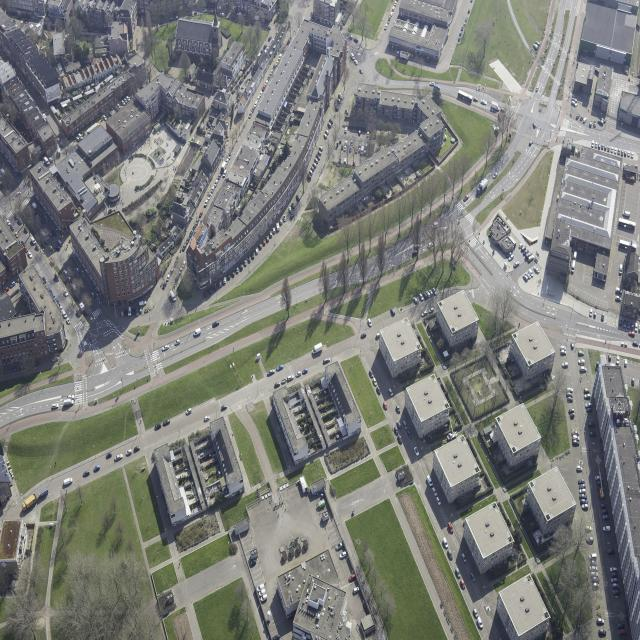large-vehicle: (21, 493, 38, 513), (475, 177, 489, 196), (86, 121, 101, 138), (619, 239, 637, 253), (618, 217, 636, 230), (457, 89, 473, 103), (396, 49, 410, 61), (219, 161, 228, 175), (491, 100, 501, 111), (447, 521, 454, 534), (431, 221, 439, 229), (375, 331, 382, 340), (571, 261, 576, 273), (433, 84, 441, 91), (622, 210, 630, 217), (533, 42, 539, 51), (573, 251, 577, 262), (535, 40, 541, 47)
small-vehicle: (311, 342, 323, 355), (426, 474, 434, 487), (63, 398, 74, 407), (169, 290, 177, 302), (477, 616, 484, 629), (256, 583, 265, 593), (63, 477, 73, 486), (335, 541, 344, 551), (455, 566, 461, 580), (442, 537, 449, 549), (114, 453, 123, 462), (43, 156, 51, 166), (260, 593, 268, 603), (618, 629, 628, 637), (138, 299, 147, 307), (193, 328, 201, 337), (258, 588, 266, 597), (447, 549, 453, 561), (527, 254, 535, 263), (473, 608, 479, 619), (432, 486, 438, 497), (397, 434, 403, 445), (414, 446, 420, 457), (470, 572, 476, 583), (460, 579, 466, 590), (162, 344, 170, 352), (154, 422, 162, 430), (212, 320, 220, 328), (267, 368, 275, 376), (276, 364, 284, 372), (339, 551, 347, 559), (348, 574, 356, 582), (352, 586, 360, 594), (83, 469, 91, 477), (75, 309, 82, 318), (61, 310, 68, 319), (30, 236, 37, 245), (418, 293, 425, 302), (525, 271, 532, 280), (525, 251, 532, 260), (588, 553, 597, 560), (388, 387, 394, 397), (393, 426, 399, 436), (406, 429, 412, 439), (402, 420, 408, 430), (372, 377, 378, 387), (528, 268, 534, 278), (461, 553, 467, 563), (367, 318, 373, 328), (66, 275, 73, 283), (31, 202, 38, 210), (93, 465, 101, 472), (163, 418, 170, 426), (249, 559, 256, 567), (287, 374, 294, 382), (323, 357, 331, 364), (513, 260, 520, 268), (533, 266, 540, 274), (505, 251, 512, 259), (597, 118, 604, 126), (590, 571, 598, 578), (54, 273, 60, 282), (169, 267, 175, 276), (174, 274, 180, 283), (222, 169, 228, 178), (185, 236, 191, 245), (422, 291, 428, 300), (395, 405, 401, 414), (376, 386, 382, 395), (523, 273, 529, 282), (396, 420, 402, 429), (383, 401, 388, 411), (436, 496, 441, 506), (9, 281, 16, 288), (360, 332, 367, 339), (134, 445, 141, 452), (221, 404, 228, 411), (185, 408, 192, 415), (295, 371, 302, 378), (274, 381, 281, 388), (427, 242, 434, 249), (480, 98, 487, 105), (412, 249, 419, 256), (421, 310, 428, 317), (571, 100, 578, 107), (628, 330, 635, 337), (66, 394, 74, 400), (63, 289, 69, 297), (71, 283, 77, 291), (55, 299, 61, 307), (9, 224, 15, 232), (27, 251, 33, 259), (57, 239, 63, 247), (34, 243, 40, 251), (257, 52, 263, 60), (207, 193, 213, 201), (227, 152, 233, 160), (188, 230, 194, 238), (289, 212, 295, 220), (463, 194, 469, 202), (521, 245, 527, 253), (523, 248, 529, 256), (508, 254, 514, 262), (572, 435, 580, 441), (600, 116, 606, 124), (579, 366, 587, 372), (580, 499, 588, 505), (592, 577, 600, 583), (590, 566, 598, 572), (613, 590, 621, 596), (607, 549, 615, 555), (162, 281, 167, 290), (195, 217, 200, 226), (344, 44, 349, 53), (390, 307, 395, 316), (360, 146, 365, 155), (432, 287, 437, 296), (182, 243, 187, 252), (127, 306, 131, 317), (619, 264, 623, 275), (52, 403, 59, 409), (4, 287, 10, 294), (51, 293, 57, 300), (30, 220, 36, 227), (17, 218, 23, 225), (23, 246, 29, 253), (20, 240, 26, 247), (52, 356, 59, 362), (77, 133, 83, 140), (106, 452, 112, 459), (126, 449, 132, 456), (253, 15, 260, 21), (204, 415, 210, 422), (210, 186, 216, 193), (302, 368, 308, 375), (338, 93, 344, 100), (337, 30, 344, 36), (315, 153, 321, 160), (518, 242, 524, 249), (576, 465, 583, 471), (566, 387, 573, 393), (616, 287, 622, 294), (599, 630, 606, 636), (597, 618, 604, 624), (579, 488, 586, 494), (588, 422, 595, 428), (584, 393, 591, 399), (586, 537, 593, 543), (578, 479, 585, 485), (579, 484, 586, 490), (612, 583, 619, 589), (611, 572, 618, 578), (610, 567, 617, 573), (603, 526, 610, 532), (66, 317, 71, 325), (42, 276, 47, 284), (59, 305, 64, 313), (135, 306, 139, 316), (178, 267, 183, 275), (166, 274, 171, 282), (173, 259, 178, 267), (248, 111, 253, 119), (253, 100, 258, 108), (258, 90, 263, 98), (204, 289, 209, 297), (204, 199, 209, 207), (214, 179, 219, 187), (225, 158, 230, 166), (350, 52, 355, 60), (307, 173, 312, 181), (413, 296, 418, 304), (426, 290, 431, 298), (429, 289, 434, 297), (369, 370, 374, 378), (616, 355, 620, 365), (595, 476, 603, 481), (572, 440, 580, 445), (48, 157, 54, 163), (55, 245, 61, 251), (43, 239, 49, 245), (125, 96, 131, 102), (41, 231, 47, 237), (353, 37, 359, 43), (353, 59, 359, 65), (182, 260, 186, 269), (571, 97, 577, 103), (562, 362, 568, 368), (634, 323, 638, 332), (633, 341, 639, 347), (568, 408, 574, 414), (603, 515, 609, 521), (602, 509, 608, 515), (63, 269, 68, 276), (33, 362, 40, 367), (6, 219, 11, 226), (14, 231, 19, 238), (24, 227, 29, 234), (38, 211, 43, 218), (14, 213, 19, 220), (16, 190, 21, 197), (25, 213, 30, 220), (59, 141, 64, 148), (102, 114, 107, 121), (114, 105, 119, 112), (175, 339, 180, 346), (239, 78, 244, 85), (269, 69, 274, 76), (206, 121, 211, 128), (278, 53, 283, 60), (198, 211, 203, 218), (190, 137, 195, 144), (192, 224, 197, 231), (310, 165, 315, 172), (314, 157, 319, 164), (90, 291, 95, 298), (493, 172, 498, 179), (479, 179, 484, 186), (560, 350, 567, 355), (572, 431, 579, 436), (578, 359, 585, 364), (580, 494, 587, 499), (589, 432, 596, 437), (585, 403, 592, 408), (585, 526, 592, 531), (529, 139, 534, 146), (617, 624, 624, 629), (611, 578, 618, 583), (209, 286, 213, 294), (276, 223, 280, 231), (601, 313, 605, 321), (624, 359, 628, 367), (623, 320, 627, 328), (589, 309, 593, 317), (75, 267, 80, 273), (11, 368, 17, 373), (18, 366, 24, 371), (40, 218, 45, 224), (49, 245, 54, 251), (51, 230, 56, 236), (116, 103, 121, 109), (56, 137, 61, 143), (75, 136, 80, 142), (108, 111, 113, 117), (121, 100, 126, 106), (123, 98, 128, 104), (237, 11, 243, 16), (48, 232, 53, 238), (243, 19, 249, 24), (213, 10, 219, 15), (246, 68, 251, 74), (243, 73, 248, 79), (235, 83, 240, 89), (231, 89, 236, 95), (264, 80, 269, 86), (217, 174, 222, 180), (359, 68, 364, 74), (323, 133, 328, 139), (327, 122, 332, 128), (329, 119, 334, 125), (312, 162, 317, 168), (429, 81, 435, 86), (414, 244, 420, 249), (501, 107, 506, 113), (473, 97, 479, 102), (429, 307, 434, 313), (560, 346, 566, 351), (578, 351, 584, 356), (567, 392, 573, 397), (567, 397, 573, 402), (615, 296, 621, 301), (593, 582, 599, 587), (586, 408, 592, 413), (582, 504, 588, 509), (597, 481, 603, 486), (584, 388, 590, 393), (591, 561, 597, 566), (601, 504, 607, 509), (49, 288, 53, 295), (269, 231, 273, 238), (251, 106, 255, 113), (223, 277, 227, 284), (267, 74, 271, 81), (214, 283, 218, 290), (296, 194, 300, 201), (343, 145, 347, 152), (384, 23, 388, 30), (366, 131, 370, 138), (273, 64, 277, 71), (535, 86, 539, 93), (576, 113, 580, 120), (593, 311, 597, 318), (583, 117, 587, 124), (589, 120, 593, 127), (617, 148, 621, 155), (597, 143, 601, 150), (36, 106, 41, 111), (33, 210, 38, 215), (174, 16, 179, 21), (188, 12, 193, 17), (220, 12, 225, 17), (211, 104, 216, 109), (266, 26, 271, 31), (408, 53, 413, 58), (569, 413, 574, 418), (58, 148, 61, 156), (105, 113, 109, 119), (139, 306, 142, 314), (268, 35, 272, 41), (256, 96, 260, 102), (250, 64, 254, 70), (262, 85, 266, 91), (240, 262, 243, 270), (251, 251, 254, 259), (253, 60, 257, 66), (287, 39, 291, 45), (196, 140, 200, 146), (275, 60, 279, 66), (325, 129, 329, 135), (337, 98, 341, 104), (344, 127, 348, 133), (319, 145, 323, 151), (318, 150, 322, 156), (338, 157, 342, 163), (291, 203, 295, 209), (279, 219, 283, 225), (343, 158, 347, 164), (363, 149, 367, 155), (392, 5, 396, 11), (390, 11, 394, 17), (426, 59, 432, 63), (459, 30, 463, 36), (580, 116, 584, 122), (632, 378, 635, 386), (627, 321, 630, 329), (631, 322, 634, 330), (219, 280, 222, 287), (232, 270, 235, 277), (236, 266, 239, 273), (244, 259, 247, 266), (255, 247, 258, 254), (259, 243, 262, 250), (121, 310, 124, 317), (353, 159, 356, 166), (349, 146, 352, 153), (355, 147, 358, 154), (593, 121, 596, 128), (608, 354, 611, 361), (619, 319, 622, 326), (621, 149, 624, 156), (614, 147, 617, 154), (611, 146, 614, 153), (591, 140, 594, 147), (595, 141, 598, 148), (601, 143, 604, 150), (2, 163, 6, 168), (136, 13, 141, 17), (169, 17, 173, 22), (173, 11, 177, 16), (242, 13, 247, 17), (217, 6, 222, 10), (231, 16, 236, 20), (203, 9, 208, 13), (209, 9, 214, 13), (212, 99, 217, 103), (212, 101, 216, 106), (263, 44, 267, 49), (349, 34, 353, 39), (335, 106, 339, 111), (309, 170, 313, 175), (344, 140, 348, 145), (415, 55, 420, 59), (30, 96, 34, 101), (34, 101, 37, 107), (124, 310, 127, 316), (132, 308, 135, 314), (266, 236, 269, 242), (248, 256, 251, 262), (263, 239, 266, 245), (358, 129, 361, 135), (273, 228, 276, 234), (289, 207, 292, 213), (283, 215, 286, 221), (339, 138, 342, 144), (341, 144, 344, 150), (394, 1, 397, 7), (350, 140, 353, 146), (463, 21, 466, 27), (458, 36, 461, 42), (533, 122, 536, 128), (365, 143, 368, 149), (627, 151, 630, 157), (571, 343, 574, 349), (604, 145, 607, 151), (607, 146, 610, 152), (631, 152, 634, 158), (237, 17, 241, 21), (250, 21, 254, 25), (233, 10, 236, 15), (209, 5, 214, 8), (261, 49, 264, 54), (309, 64, 312, 69), (359, 143, 362, 148), (388, 16, 391, 21), (386, 20, 389, 25), (468, 9, 471, 14), (465, 17, 468, 22), (461, 26, 464, 31), (624, 151, 627, 156), (168, 13, 171, 17), (194, 11, 197, 15), (205, 4, 208, 8), (228, 274, 230, 280), (315, 54, 318, 58)
